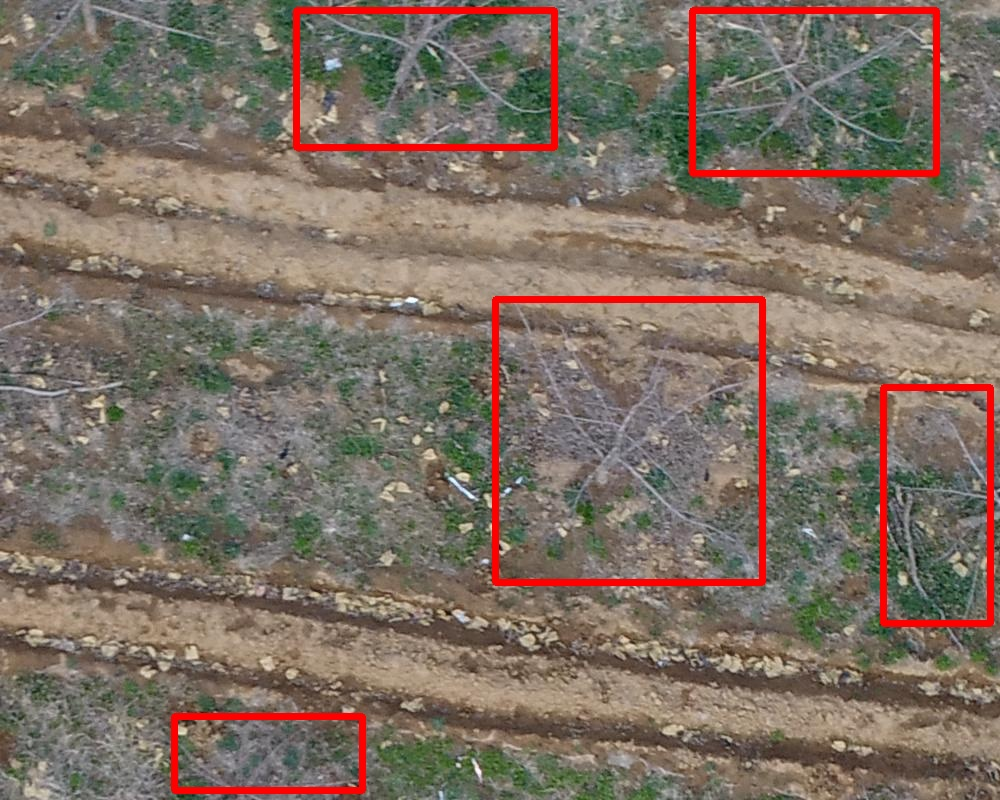apple: (495, 299, 762, 582), (692, 10, 936, 173), (296, 10, 554, 147), (883, 387, 990, 623), (174, 716, 362, 790)
